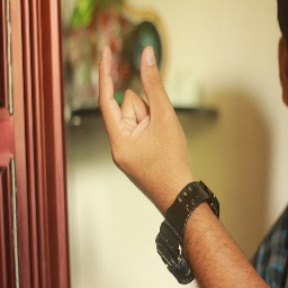U: (93, 41, 189, 174)
